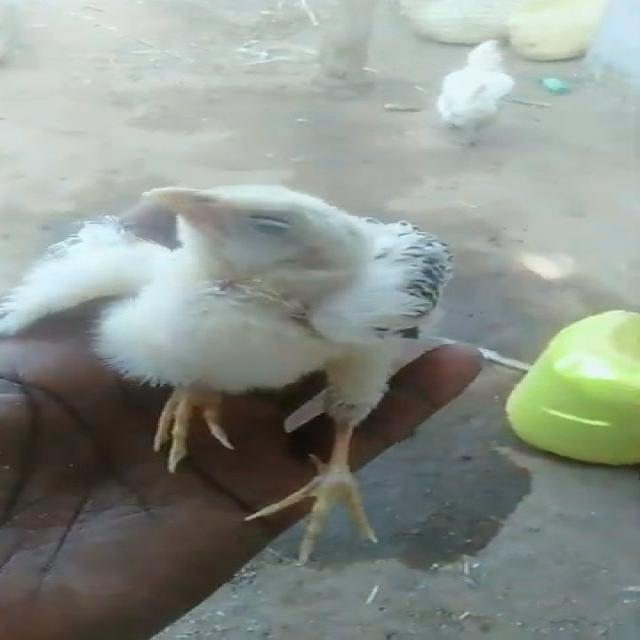newcastle: (0, 168, 473, 546)
